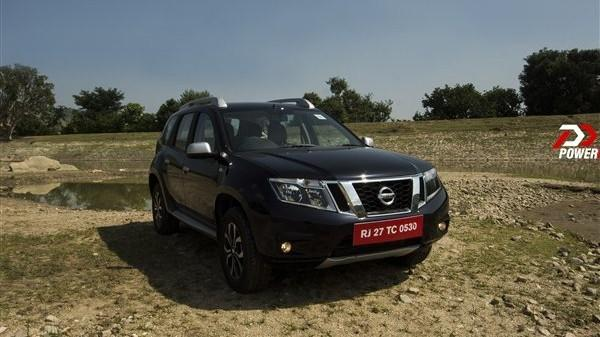License-Plate: (357, 220, 425, 242)
